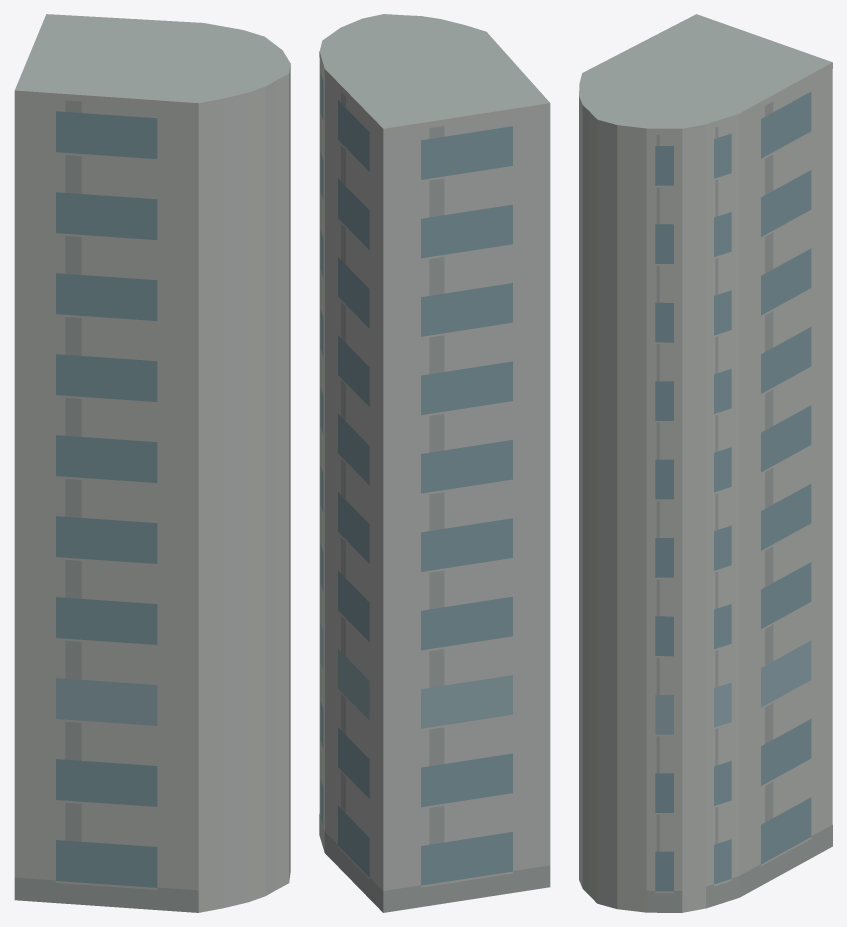
The model's file is survey-upis-32914471.glb.
3 views of the same model, side by side, from view 1: azimuth 30°, elevation 25°; view 2: azimuth 150°, elevation 25°; view 3: azimuth 270°, elevation 25° (orthographic). The views are drawn at different scales.
Visible parts, largest first — view 1: survey-upis-32914471.tmp; view 2: survey-upis-32914471.tmp; view 3: survey-upis-32914471.tmp.
Boxes of the visible parts, left/top/right/bottom form: survey-upis-32914471.tmp: left=14, top=14, right=290, bottom=912; survey-upis-32914471.tmp: left=319, top=14, right=550, bottom=912; survey-upis-32914471.tmp: left=579, top=14, right=832, bottom=912.
Size of the model in its own units: 9.58 by 30.5 by 8.95.
